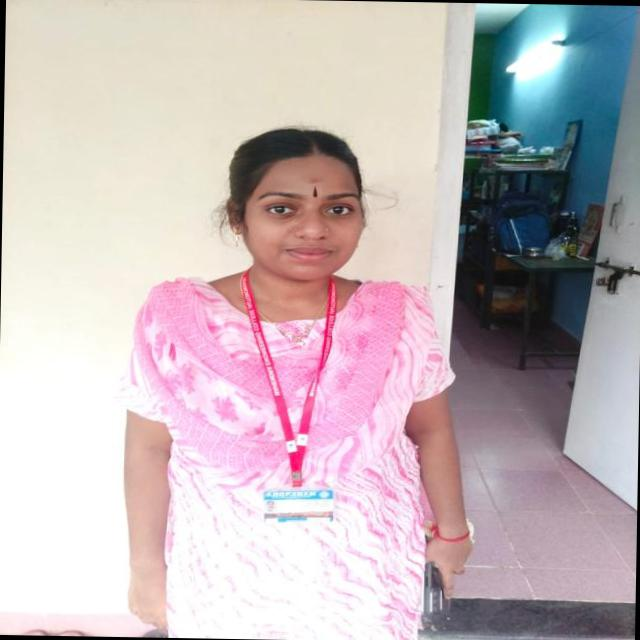id_card: (242, 268, 341, 520)
